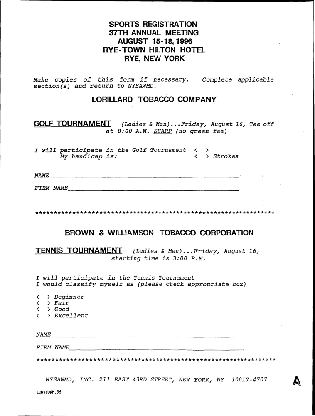checkbox: (195, 154, 209, 160), (37, 295, 51, 301), (37, 300, 51, 306), (36, 306, 50, 312), (37, 313, 51, 319), (196, 148, 209, 153)
textline: (50, 331, 245, 338), (68, 185, 240, 192), (49, 173, 240, 179), (69, 345, 245, 351)
